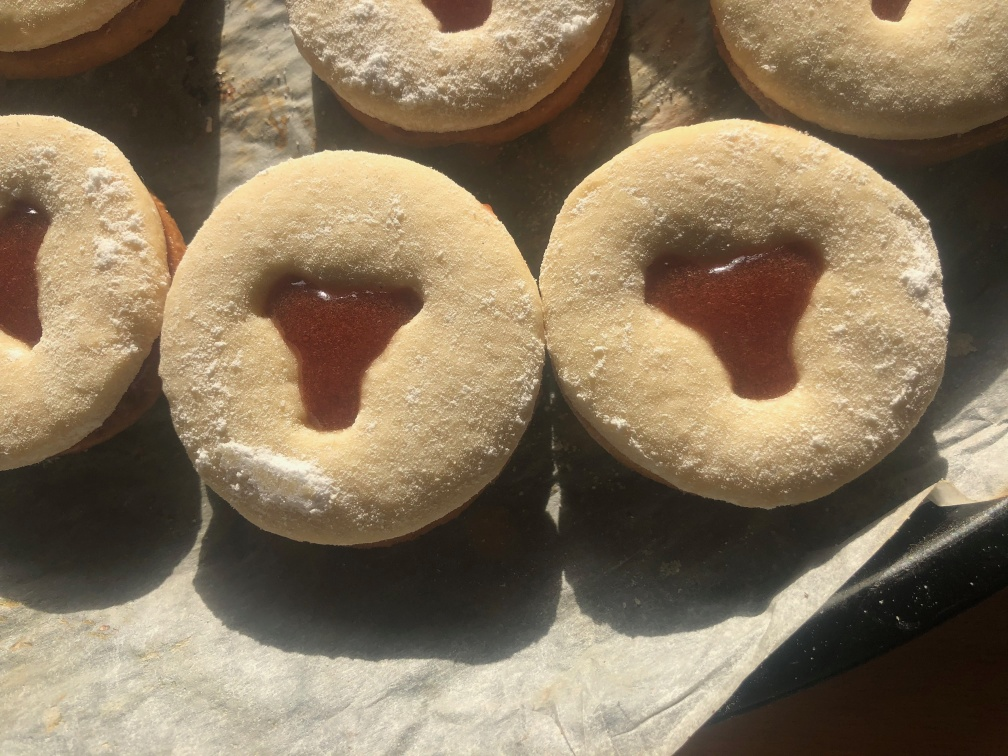christmas shortbread with jam: (538, 119, 945, 511), (156, 151, 554, 548), (2, 108, 179, 482), (283, 3, 629, 137), (713, 3, 1007, 148)
